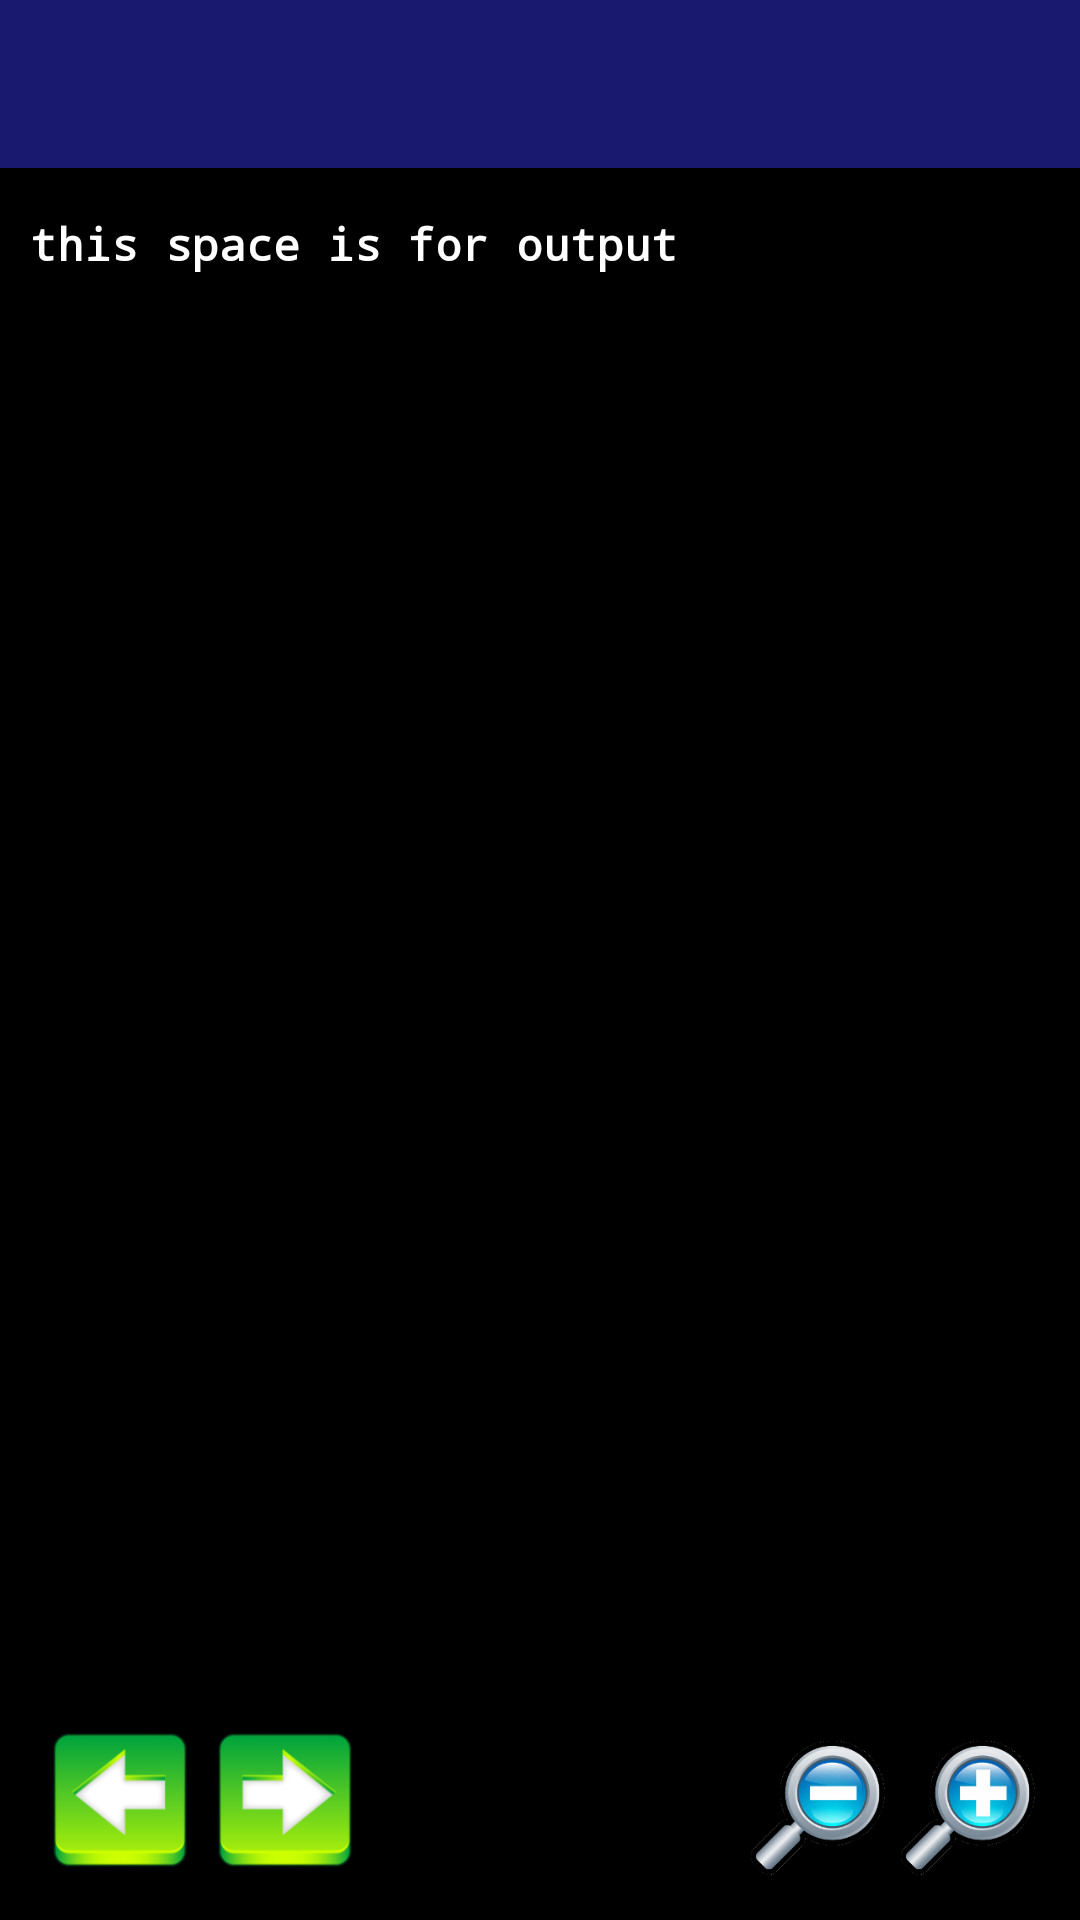

Named icons in this screenshot (1080 × 1920) and their bounding boxes, (x1, y1, x2, y2):
nextbutton: (219, 1734, 351, 1866)
prevbutton: (54, 1734, 186, 1866)
zoomin: (905, 1741, 1035, 1875)
zoomout: (755, 1741, 885, 1875)
